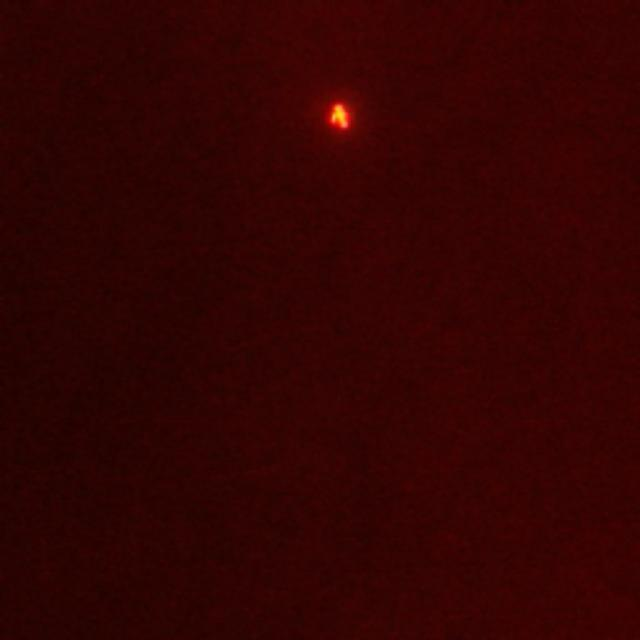Film: (330, 103, 352, 133)
